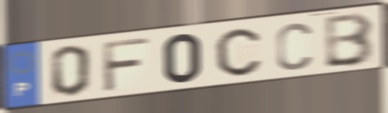0: (48, 43, 93, 99), (162, 32, 204, 85)
B: (323, 10, 378, 69)
C: (213, 26, 263, 78), (274, 21, 314, 73)
F: (100, 36, 152, 94)
